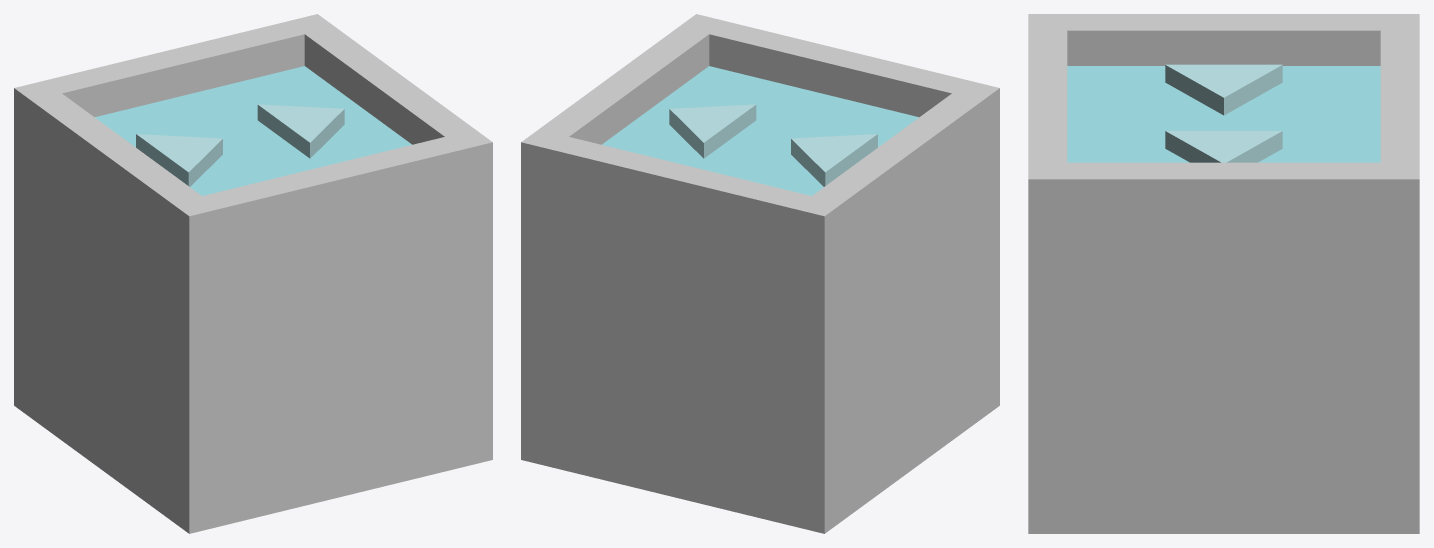
Rendered from SlideTile.fbx.
3 renders of one model, left to right at view 1: azimuth 30°, elevation 25°; view 2: azimuth 150°, elevation 25°; view 3: azimuth 270°, elevation 25°, orthographic. The views are drawn at different scales.
Parts seen in each view (by area): view 1: SlideTile, SlideButton; view 2: SlideTile, SlideButton; view 3: SlideTile, SlideButton.
Part boxes in pixels (box(x1,y1,x2,y2)): SlideTile: box(14, 14, 492, 533); SlideButton: box(136, 104, 344, 186); SlideTile: box(521, 14, 999, 533); SlideButton: box(669, 104, 877, 186); SlideTile: box(1028, 14, 1419, 533); SlideButton: box(1165, 64, 1282, 162).
Bounding box in the file's own units: 5 × 5 × 5.
